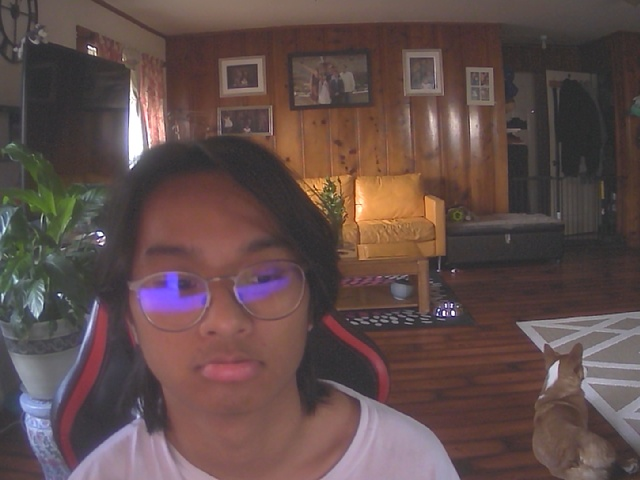sad: (120, 143, 325, 421)
